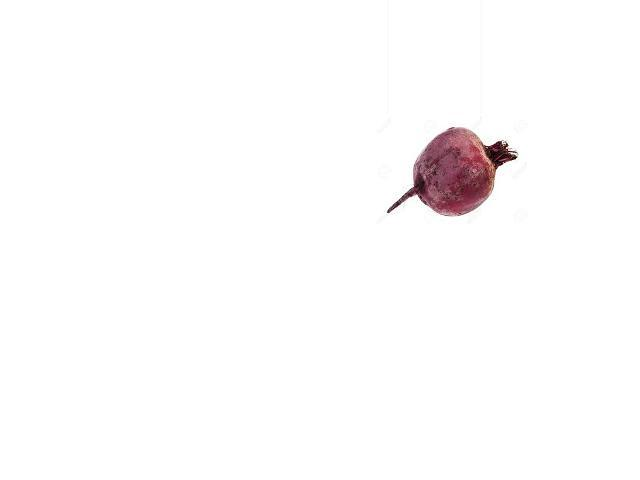beet: (387, 128, 518, 216)
